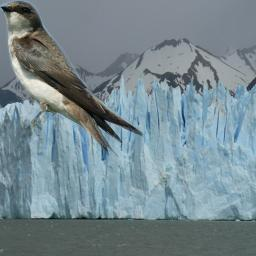Swallow: (0, 0, 144, 158)
